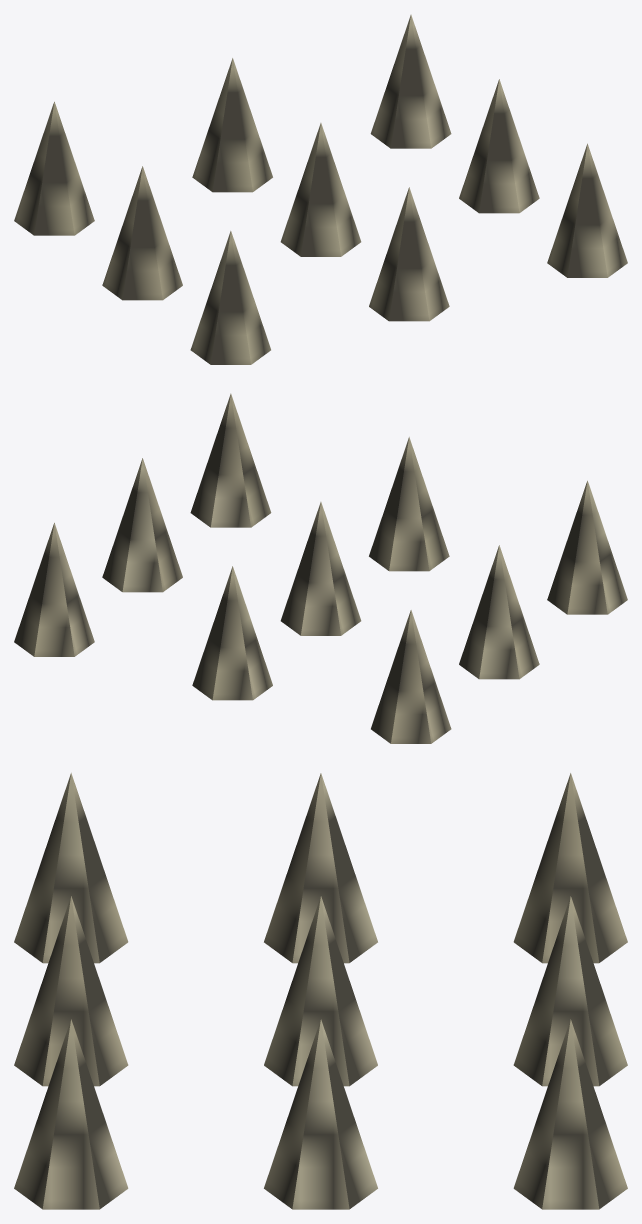
File: cleanstreets_spike_lane_studs.obj
3 renders of one model, top to bottom at view 1: azimuth 30°, elevation 25°; view 2: azimuth 150°, elevation 25°; view 3: azimuth 270°, elevation 25°, orthographic. The views are drawn at different scales.
Bounding box in the file's own units: 0.6553 × 0.18 × 0.59.
1 material, 1 textured.
